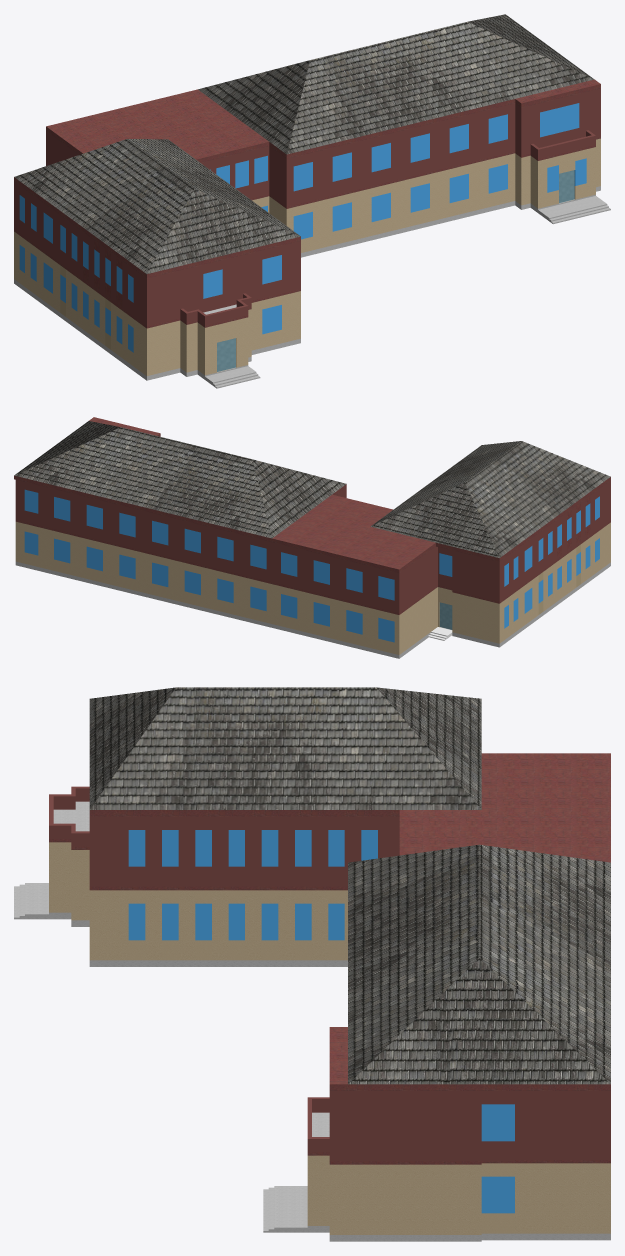
Rendered from Water_Quality_Building.glb.
3 renders of one model, top to bottom at view 1: azimuth 30°, elevation 25°; view 2: azimuth 150°, elevation 25°; view 3: azimuth 270°, elevation 25°, orthographic. The views are drawn at different scales.
Parts seen in each view (by area): view 1: Roof, Floor2, Floor1; view 2: Roof, Floor1, Floor2; view 3: Roof, Floor1, Floor2.
Part boxes in pixels (left/top/right/bottom): Roof: left=14, top=14, right=600, bottom=278; Floor2: left=14, top=88, right=600, bottom=328; Floor1: left=14, top=138, right=610, bottom=388; Roof: left=14, top=417, right=610, bottom=573; Floor1: left=15, top=521, right=610, bottom=658; Floor2: left=15, top=480, right=610, bottom=614; Roof: left=89, top=687, right=610, bottom=1090; Floor1: left=14, top=842, right=610, bottom=1241; Floor2: left=49, top=786, right=610, bottom=1164.
Size of the model in its own units: 49.42 by 13.4 by 32.34.
8 materials, 7 textured.
